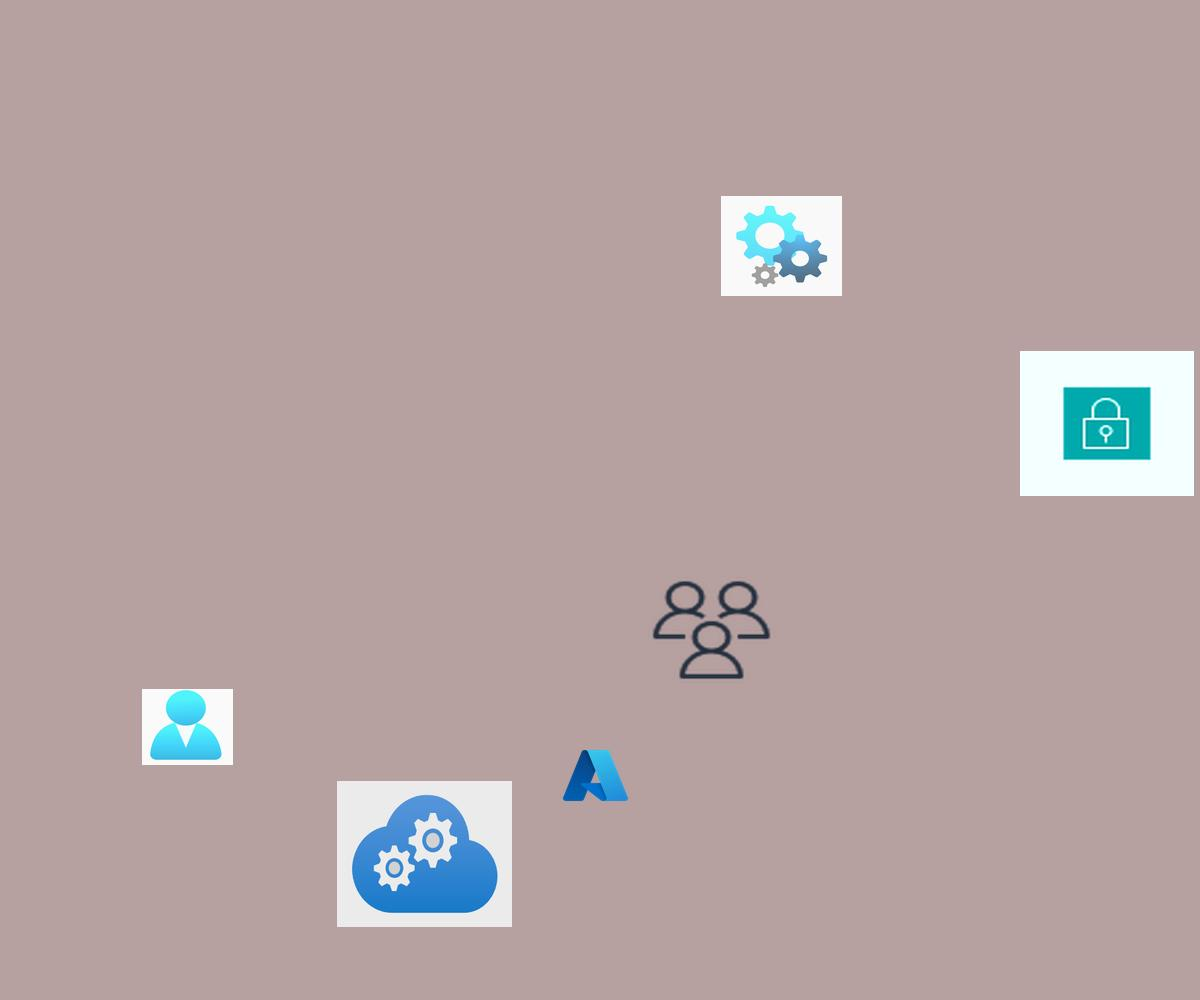AWS-Private-subnet: (1020, 351, 1194, 496)
AWS-Res_Users: (648, 577, 775, 683)
Azure_api: (721, 196, 842, 296)
Azure_cloud_services: (337, 781, 512, 927)
Azure_services: (560, 746, 631, 805)
Azure_users: (142, 689, 233, 765)
